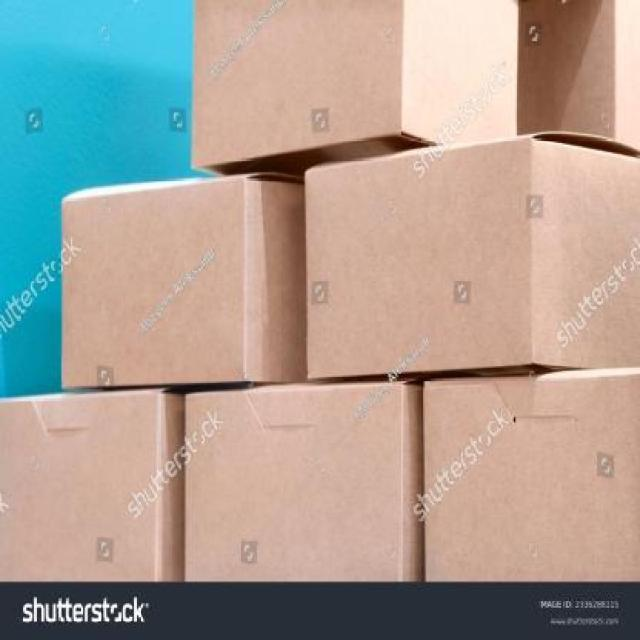BoxFace: (308, 140, 532, 378), (424, 373, 640, 582), (185, 384, 408, 576), (61, 176, 246, 390), (189, 0, 403, 171), (0, 397, 162, 585)
